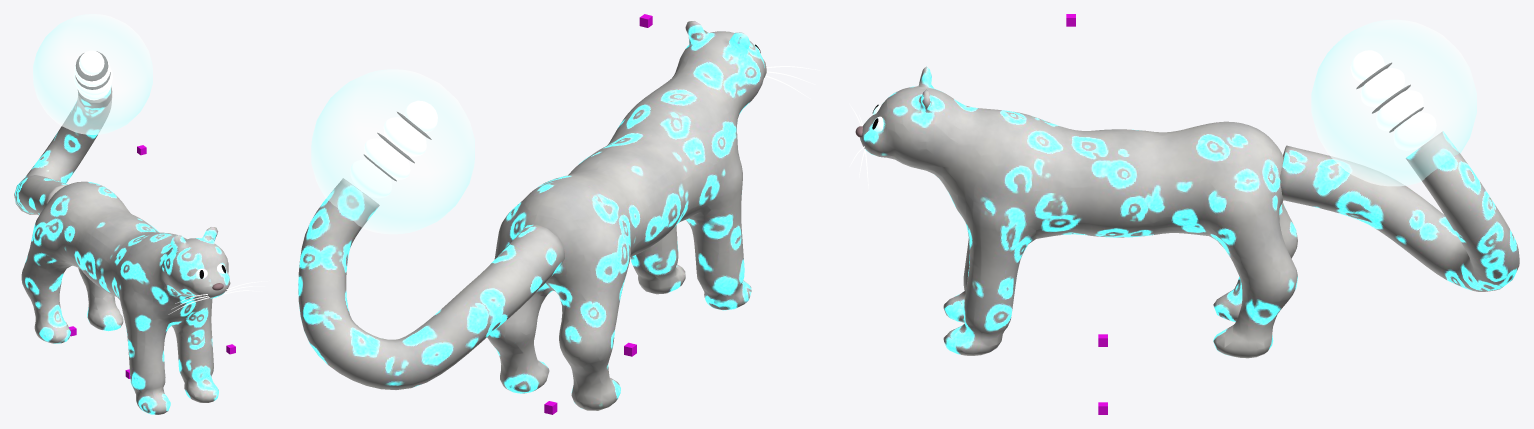
The model's file is 05_leopardo_valanga.glb.
3 views of the same model, side by side, from view 1: azimuth 30°, elevation 25°; view 2: azimuth 150°, elevation 25°; view 3: azimuth 270°, elevation 25° (orthographic). The views are drawn at different scales.
Parts seen in each view (by area): view 1: Leopardo__Pelliccia_Rosette, Leopardo__Alone_Bulbo, Leopardo__Bulbo, Leopardo__Anelli_Bulbo, Leopardo__Baffi; view 2: Leopardo__Pelliccia_Rosette, Leopardo__Alone_Bulbo, Leopardo__Bulbo; view 3: Leopardo__Pelliccia_Rosette, Leopardo__Alone_Bulbo, Leopardo__Bulbo.
Part boxes in pixels (x1,y1,x2,y2): Leopardo__Pelliccia_Rosette: (14, 86, 230, 414); Leopardo__Alone_Bulbo: (33, 14, 152, 134); Leopardo__Bulbo: (73, 50, 112, 100); Leopardo__Anelli_Bulbo: (75, 51, 110, 89); Leopardo__Baffi: (168, 280, 269, 314); Leopardo__Pelliccia_Rosette: (298, 21, 766, 410); Leopardo__Alone_Bulbo: (311, 69, 474, 234); Leopardo__Bulbo: (350, 100, 437, 198); Leopardo__Pelliccia_Rosette: (860, 66, 1519, 358); Leopardo__Alone_Bulbo: (1311, 19, 1476, 186); Leopardo__Bulbo: (1350, 50, 1436, 150).
Bounding box in the file's own units: 2.49 × 3.75 × 6.26.
Materials: 9 (1 with a texture image).
